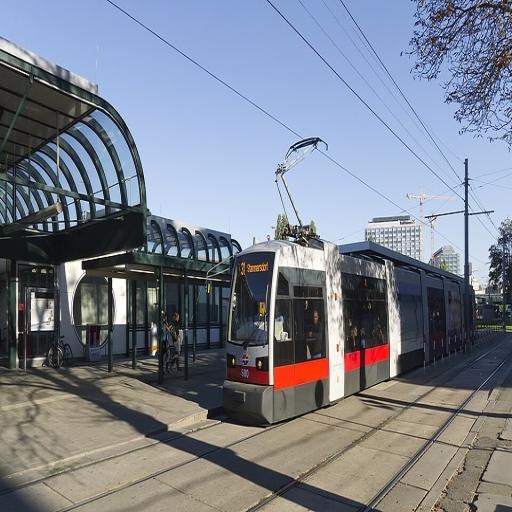ULF: (220, 232, 479, 432)
